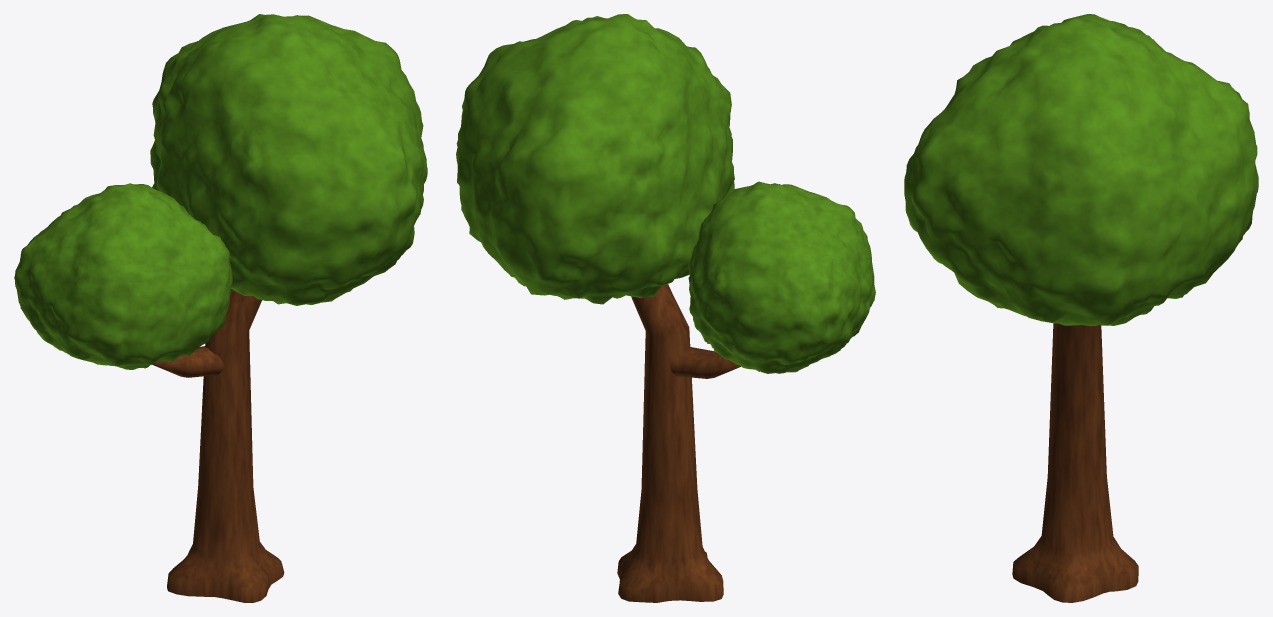
Rendered from tree-3.glb.
3 renders of one model, left to right at view 1: azimuth 30°, elevation 25°; view 2: azimuth 150°, elevation 25°; view 3: azimuth 270°, elevation 25°, orthographic. The views are drawn at different scales.
Visible parts, largest first — view 1: Leaf 3B, Leaf 3A, Tree 3; view 2: Leaf 3B, Leaf 3A, Tree 3; view 3: Leaf 3B, Tree 3.
Part boxes in pixels (box(x1,y1,x2,y2)): Leaf 3B: box(150, 14, 427, 305); Leaf 3A: box(14, 183, 232, 369); Tree 3: box(152, 289, 284, 602); Leaf 3B: box(456, 14, 734, 304); Leaf 3A: box(688, 181, 875, 373); Tree 3: box(617, 284, 740, 602); Leaf 3B: box(904, 14, 1258, 325); Tree 3: box(1012, 323, 1138, 602).
Bounding box in the file's own units: 3.34 × 4.5 × 2.49.
2 materials, 2 textured.
